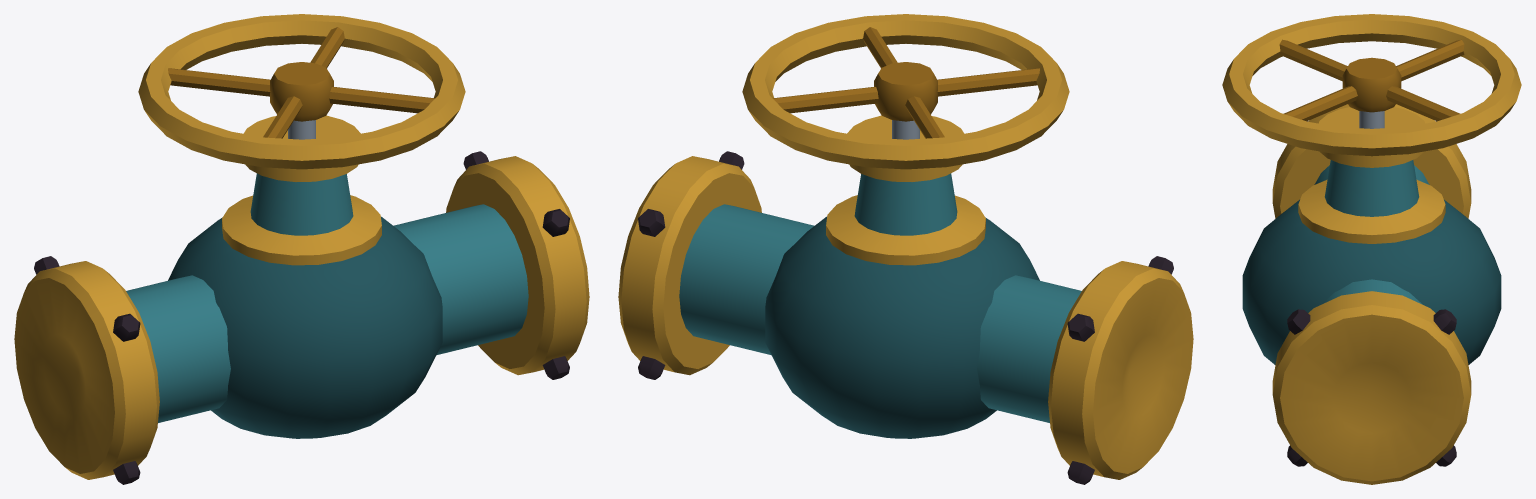
The model's file is Valve_01.glb.
3 renders of one model, left to right at view 1: azimuth 30°, elevation 25°; view 2: azimuth 150°, elevation 25°; view 3: azimuth 270°, elevation 25°, orthographic. The views are drawn at different scales.
Visible parts, largest first — view 1: Valve_01; view 2: Valve_01; view 3: Valve_01.
Boxes of the visible parts, box(x1,y1,x2,y2) form: Valve_01: box(14, 14, 589, 484); Valve_01: box(618, 14, 1193, 484); Valve_01: box(1222, 14, 1521, 484).
Bounding box in the file's own units: 2.75 × 1.94 × 1.64.
